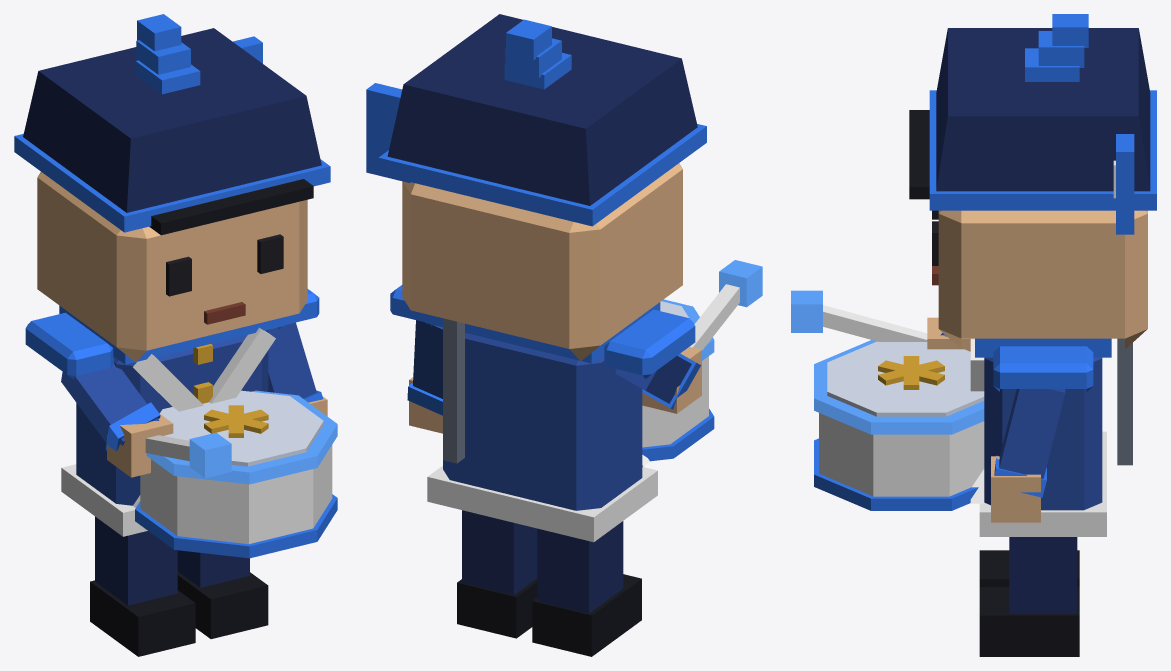
File: drummer_super_rare.glb
The picture shows the model from 3 angles, left to right: view 1: azimuth 30°, elevation 25°; view 2: azimuth 150°, elevation 25°; view 3: azimuth 270°, elevation 25°; orthographic projection. The views are drawn at different scales.
Parts seen in each view (by area): view 1: drummer_super_rare_mesh; view 2: drummer_super_rare_mesh; view 3: drummer_super_rare_mesh.
Boxes of the visible parts, x1,y1,x2,y2 form: drummer_super_rare_mesh: (14, 14, 337, 656); drummer_super_rare_mesh: (366, 14, 762, 656); drummer_super_rare_mesh: (791, 14, 1156, 656).
Bounding box in the file's own units: 0.5965 × 1.3 × 0.7143.
2 materials, 2 textured.
